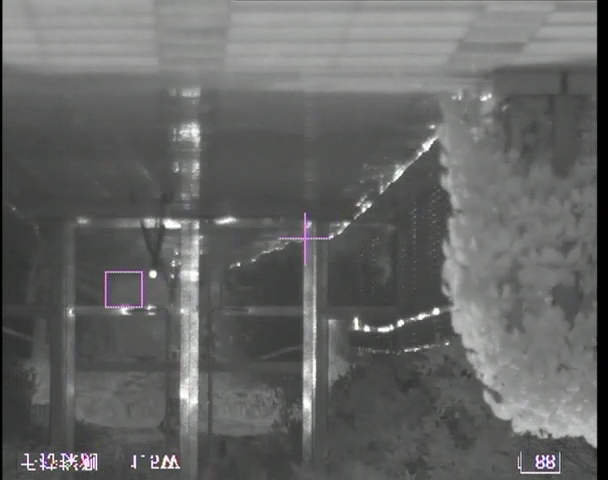my: (147, 269, 158, 280)
